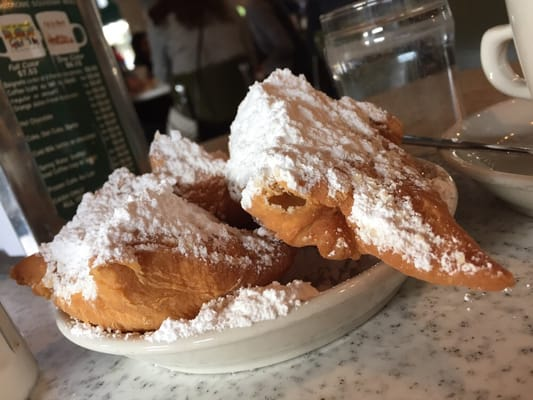soup: (224, 68, 517, 293)
